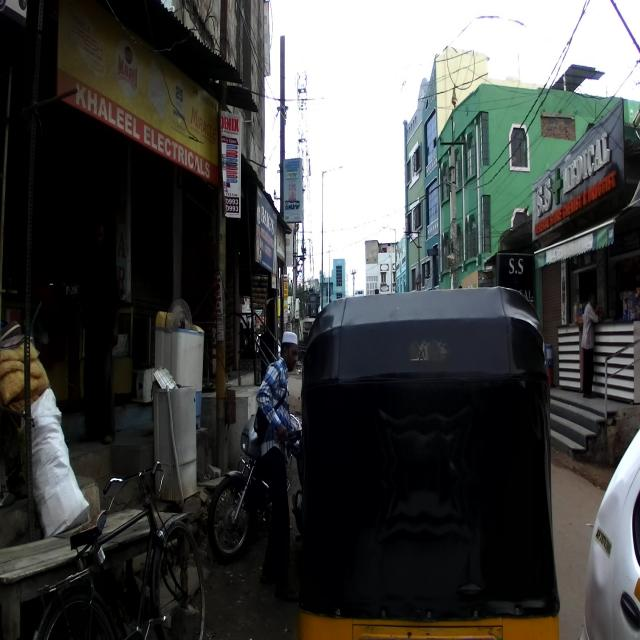Car_TATA: (578, 430, 640, 640)
autorickshaw: (298, 286, 559, 640)
motorcycle_Hero: (208, 408, 301, 565)
